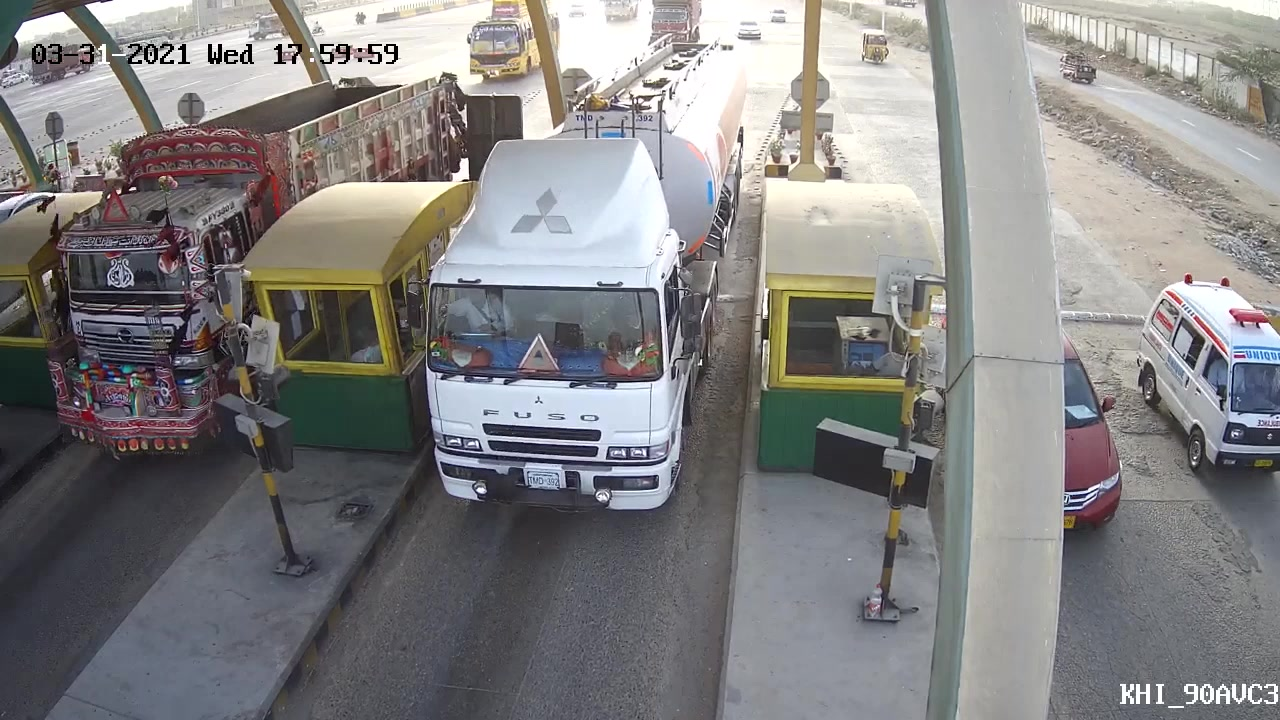F6: (414, 50, 754, 517)
